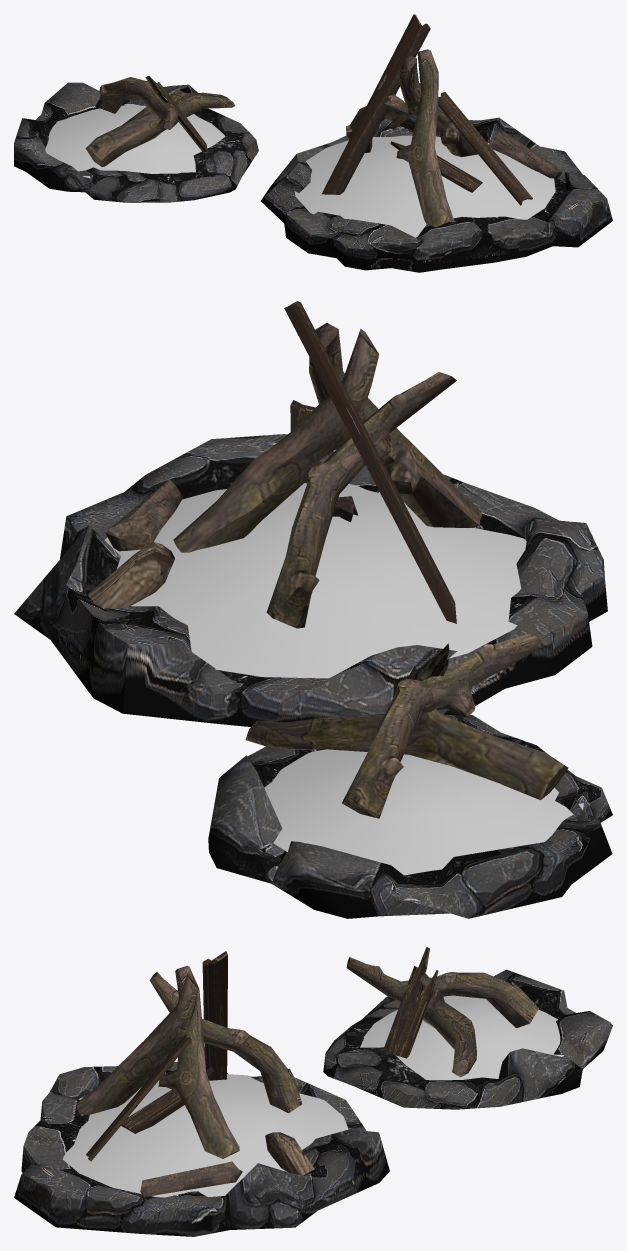
The model's file is Campfire.fbx.
3 views of the same model, one above another, from view 1: azimuth 30°, elevation 25°; view 2: azimuth 150°, elevation 25°; view 3: azimuth 270°, elevation 25° (orthographic). The views are drawn at different scales.
Parts seen in each view (by area): view 1: campfire_2, campfire, campfire_waste_big, campfire_waste_small; view 2: campfire_2, campfire, campfire_waste_big, campfire_waste_small; view 3: campfire_2, campfire, campfire_waste_big, campfire_waste_small.
Boxes of the visible parts, box(x1,y1,x2,y2) form: campfire_2: box(261, 14, 612, 272); campfire: box(14, 76, 258, 202); campfire_waste_big: box(294, 135, 555, 237); campfire_waste_small: box(45, 104, 225, 178); campfire_2: box(14, 301, 607, 726); campfire: box(208, 634, 612, 918); campfire_waste_big: box(104, 483, 526, 678); campfire_waste_small: box(264, 749, 583, 875); campfire_2: box(14, 951, 389, 1236); campfire: box(323, 947, 612, 1109); campfire_waste_big: box(63, 1074, 348, 1197); campfire_waste_small: box(360, 995, 563, 1080).
Bounding box in the file's own units: 331 × 138 × 361.
